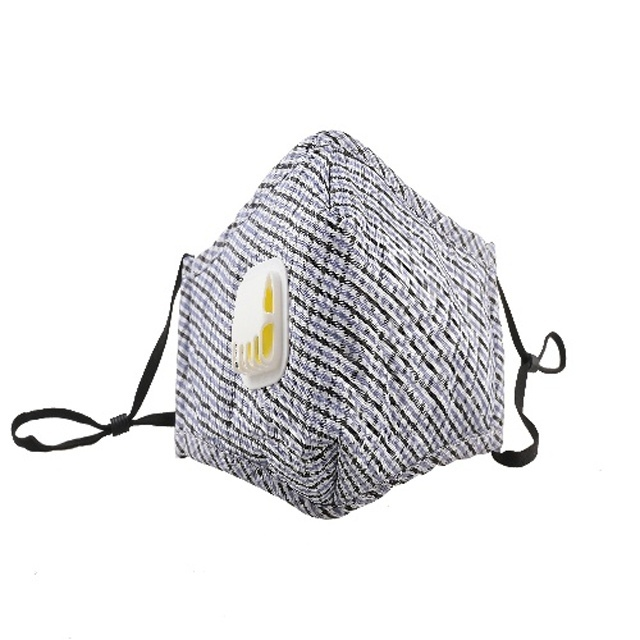mask: (15, 127, 571, 522)
